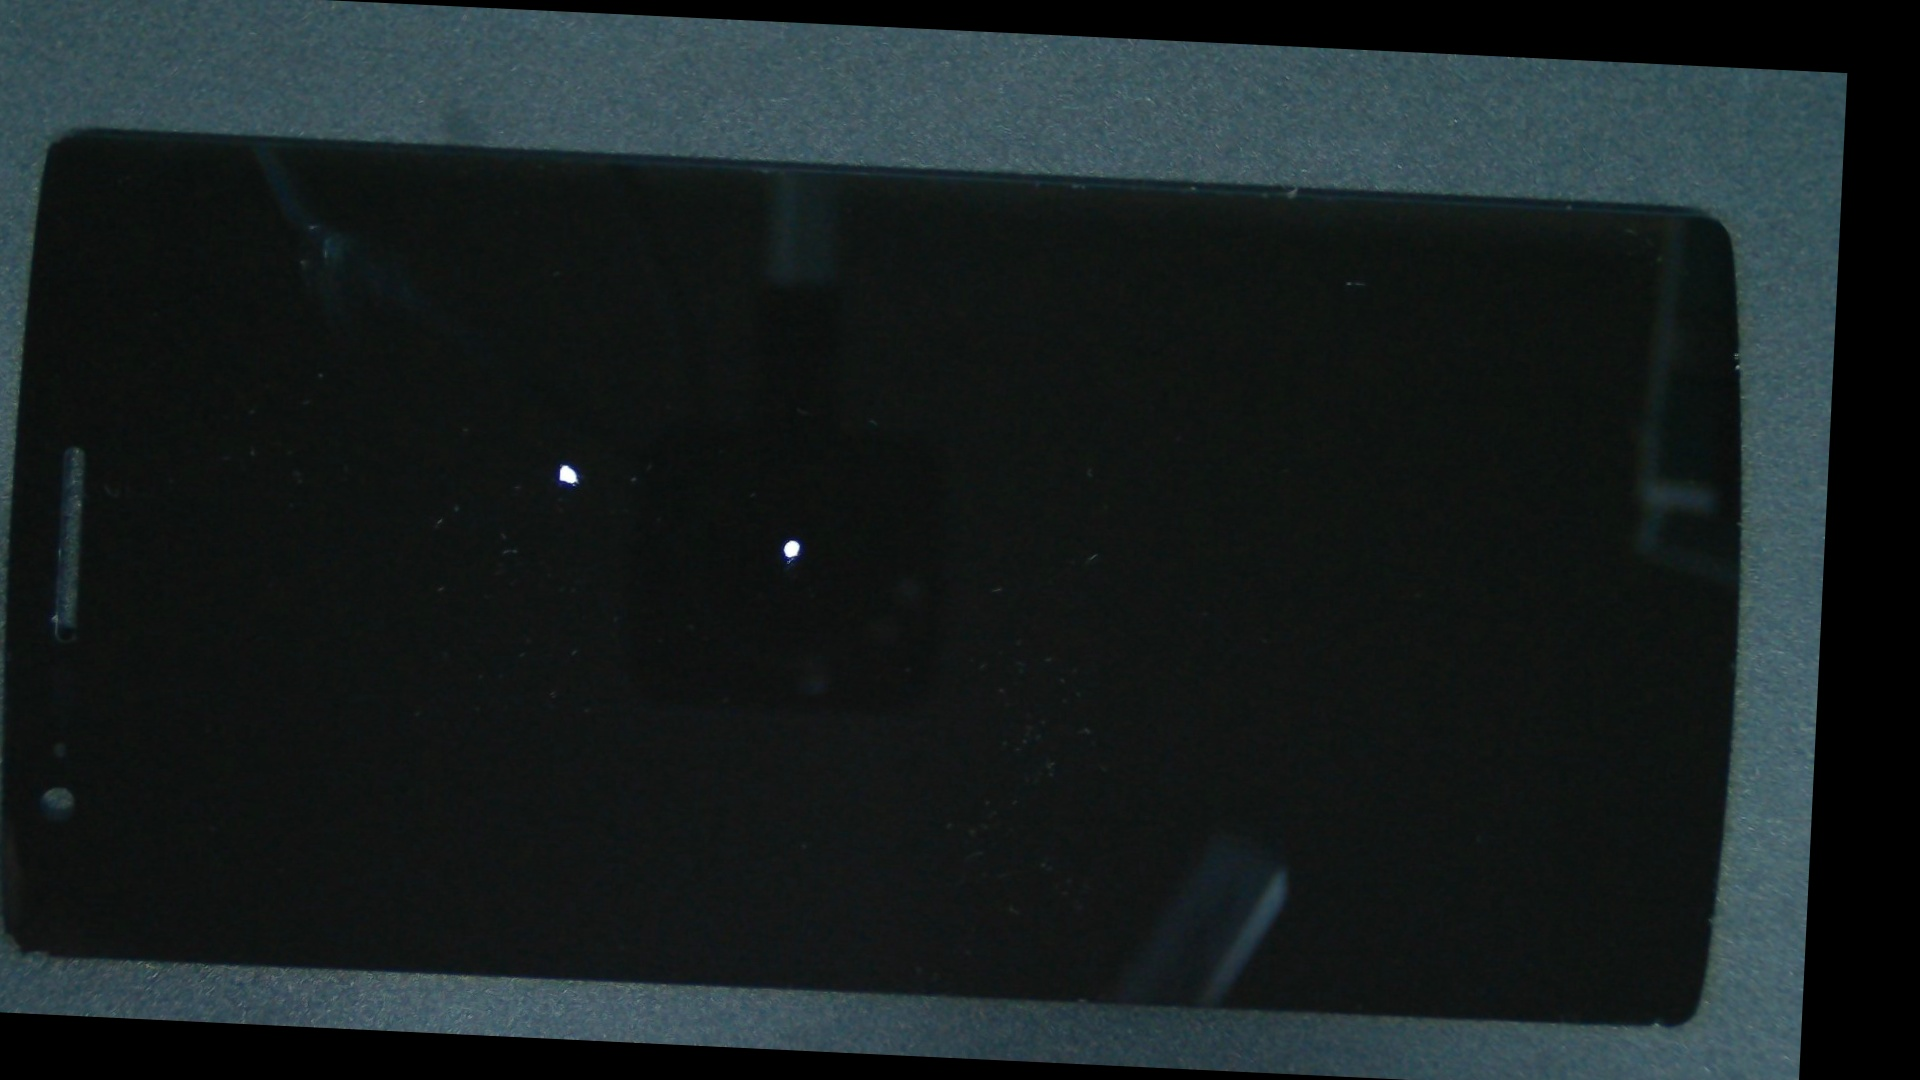oil: (342, 260, 1249, 818), (231, 222, 906, 704)
